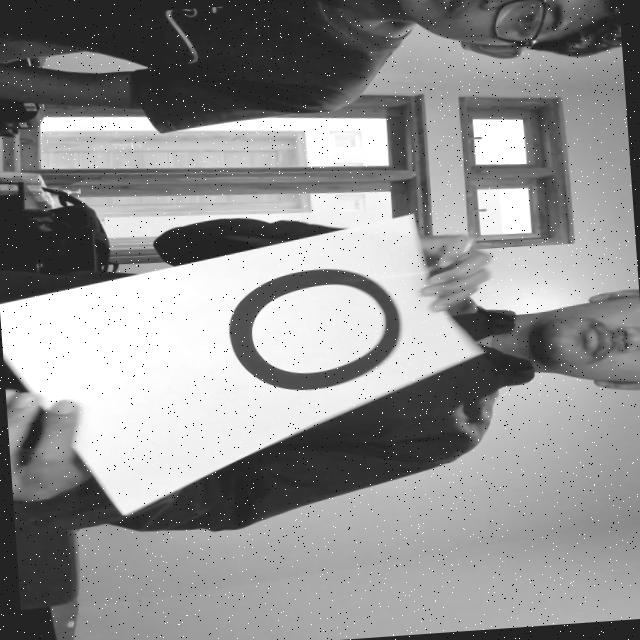o: (194, 235, 458, 404)
